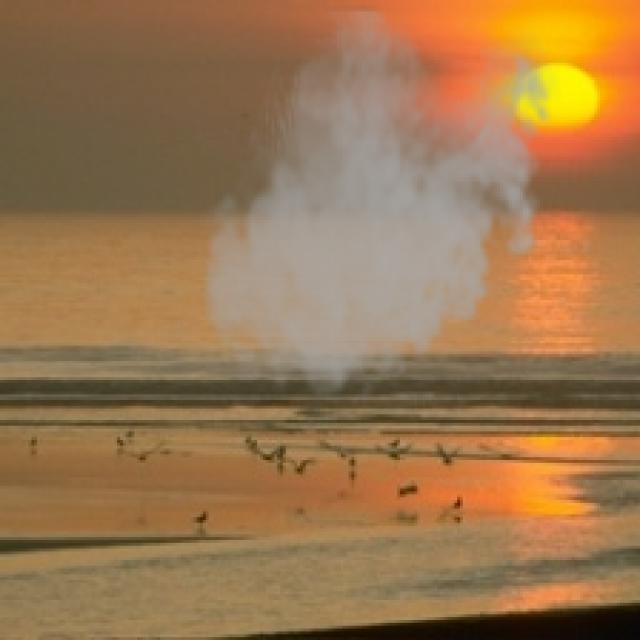smoke: (194, 6, 563, 411)
